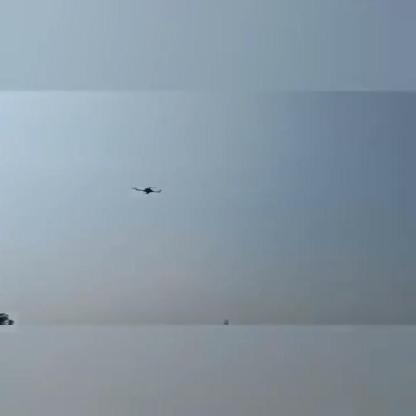drone: (135, 185, 165, 198)
